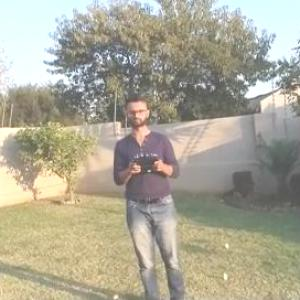follow: (107, 89, 189, 299)
